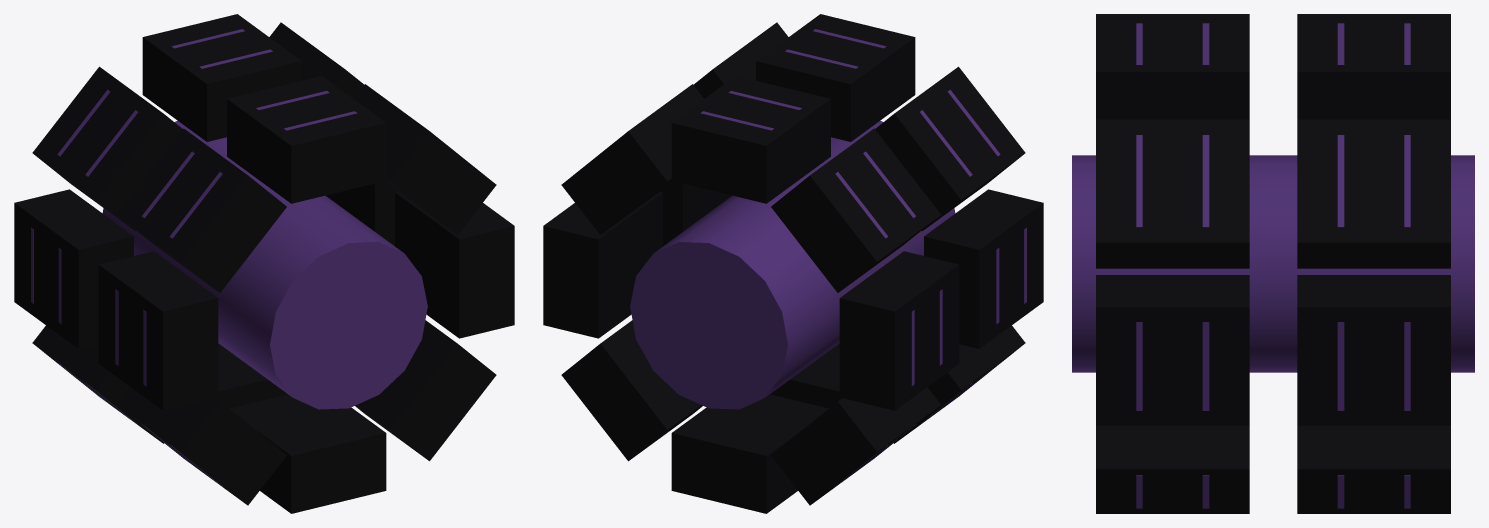
Rendered from h80_field.obj.
3 views of the same model, side by side, from view 1: azimuth 30°, elevation 25°; view 2: azimuth 150°, elevation 25°; view 3: azimuth 270°, elevation 25° (orthographic). The views are drawn at different scales.
Visible parts, largest first — view 1: h80_field; view 2: h80_field; view 3: h80_field.
Boxes of the visible parts, left/top/right/bottom form: h80_field: left=14, top=14, right=514, bottom=513; h80_field: left=543, top=14, right=1043, bottom=513; h80_field: left=1072, top=14, right=1474, bottom=513.
Size of the model in its own units: 4.49 by 4.49 by 3.73.
